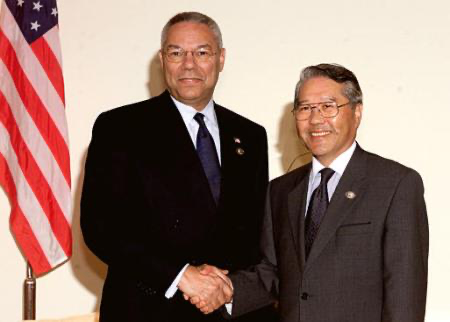Face: (291, 88, 366, 161), (159, 32, 229, 105)
